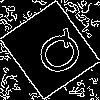Q: (24, 25, 89, 85)
